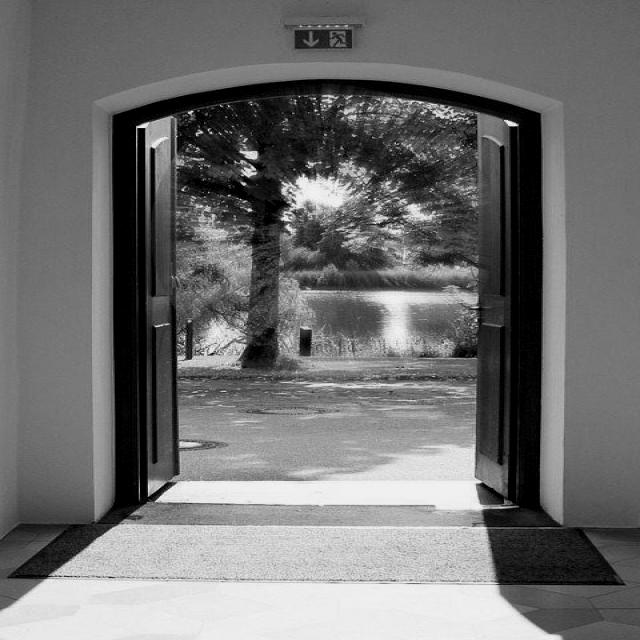door: (96, 65, 572, 530)
